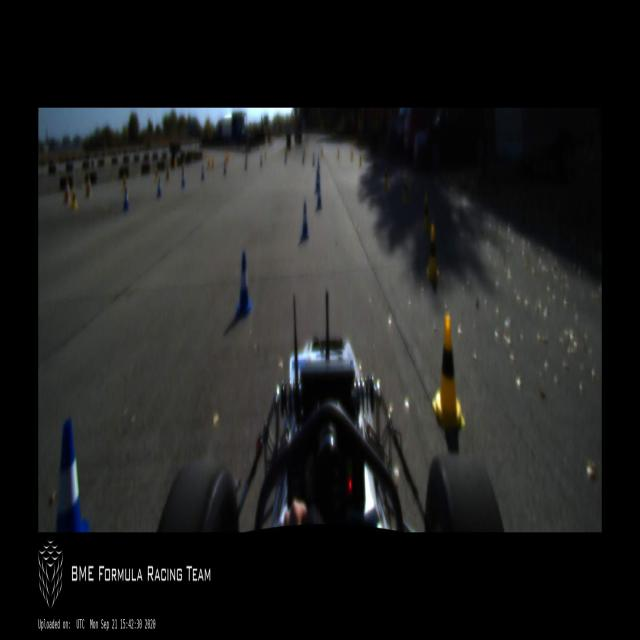blue_cone: (54, 418, 88, 532), (235, 251, 251, 318), (300, 202, 309, 242), (316, 183, 322, 212), (123, 187, 130, 211), (157, 177, 162, 198), (316, 170, 320, 192), (312, 152, 316, 166), (223, 161, 227, 174), (201, 166, 204, 180), (317, 157, 320, 168), (182, 173, 184, 188), (302, 152, 304, 164), (284, 153, 286, 163), (260, 154, 262, 164), (245, 159, 247, 169)
unknown_cone: (64, 177, 70, 204), (86, 174, 92, 198), (166, 163, 169, 179), (212, 155, 215, 170), (227, 149, 229, 162)
yellow_cone: (432, 316, 466, 426), (426, 224, 440, 282), (422, 195, 430, 232), (402, 177, 409, 205), (71, 186, 78, 211), (383, 165, 389, 189), (122, 174, 127, 192), (372, 158, 376, 177), (154, 166, 158, 183), (181, 163, 185, 175), (359, 153, 362, 167), (337, 146, 340, 160), (350, 150, 353, 162), (320, 146, 323, 157), (245, 152, 248, 162), (208, 158, 210, 168), (265, 151, 266, 159)
